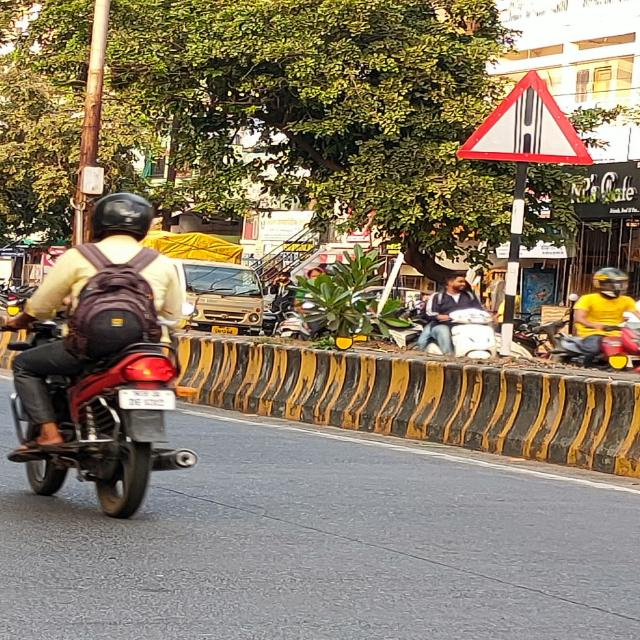GAP_IN_MEDIAN: (456, 71, 596, 165)
